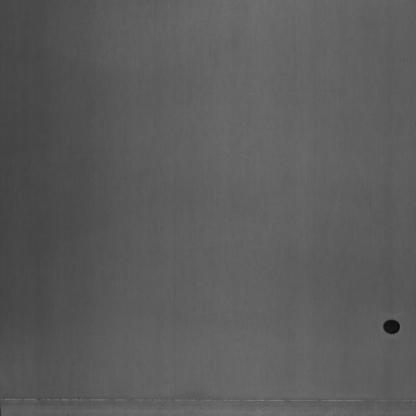punching_hole: (375, 314, 404, 342)
